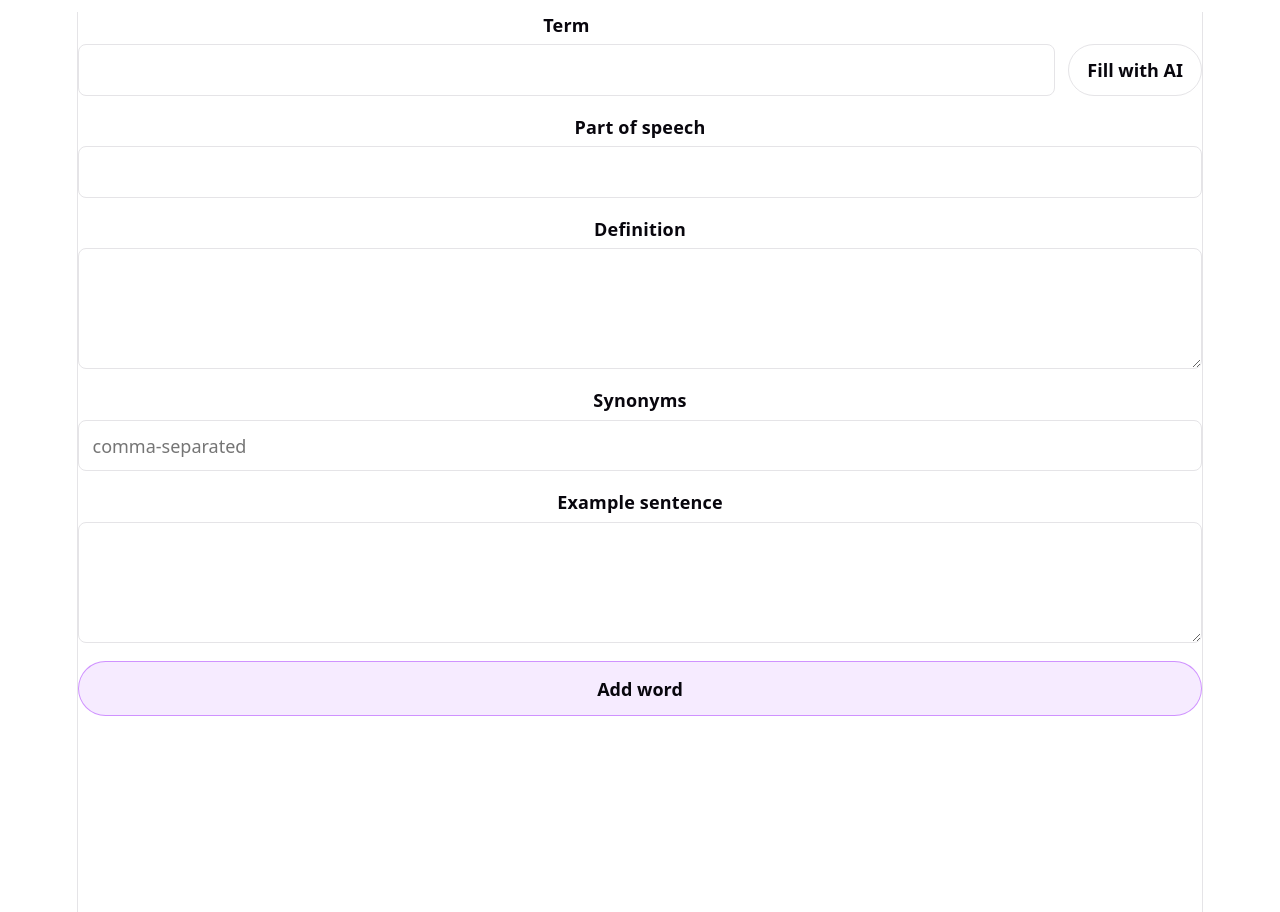
Scenario: WordForm › shows enrich error when Fill with AI fails
The image size is (1280, 912).
Type "ephemeral" into the field labelled "Term" at (566, 70), box top-left (78, 44), bottom-right (1055, 96)
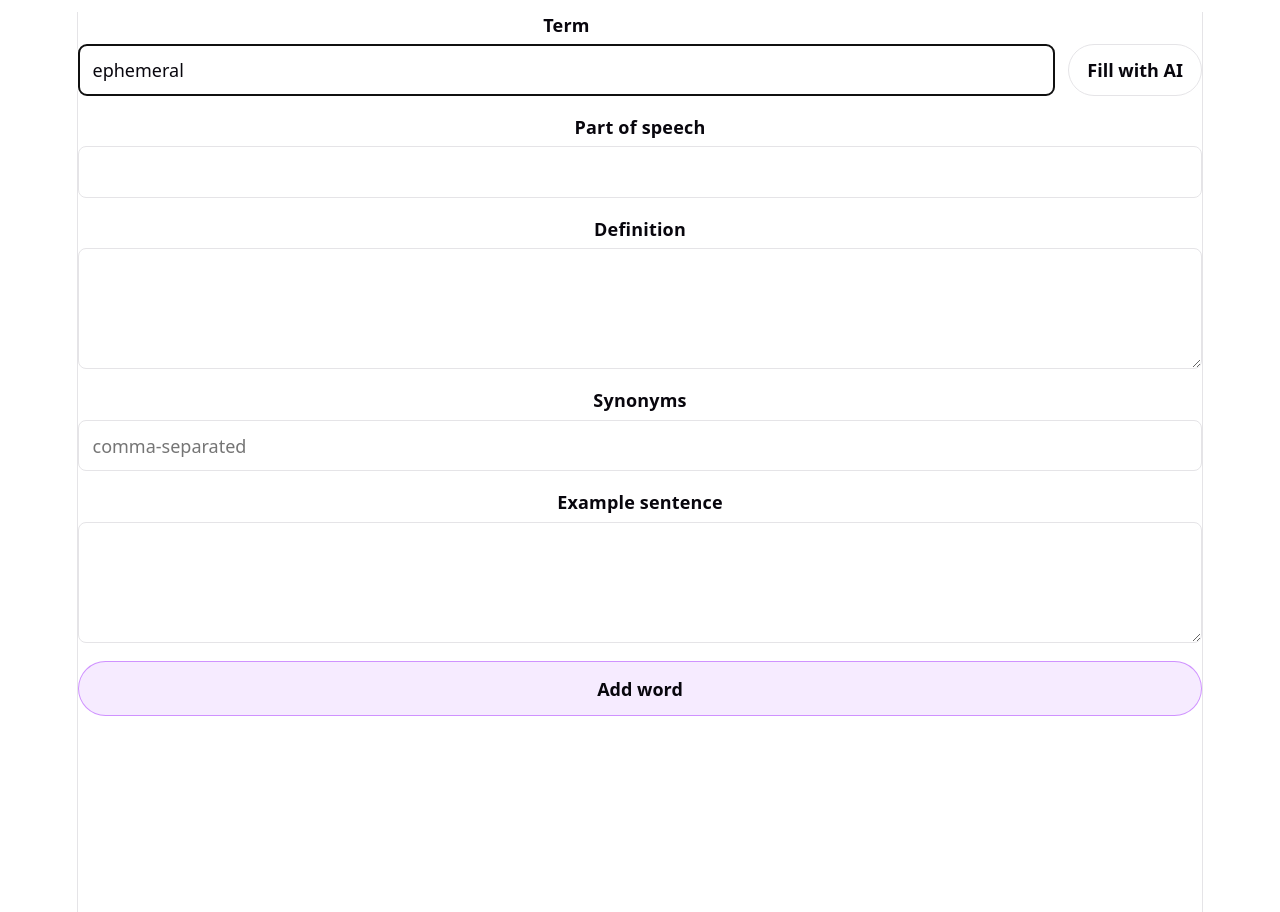
Click the button "Fill with AI" at (1135, 70), box top-left (1068, 44), bottom-right (1202, 96)
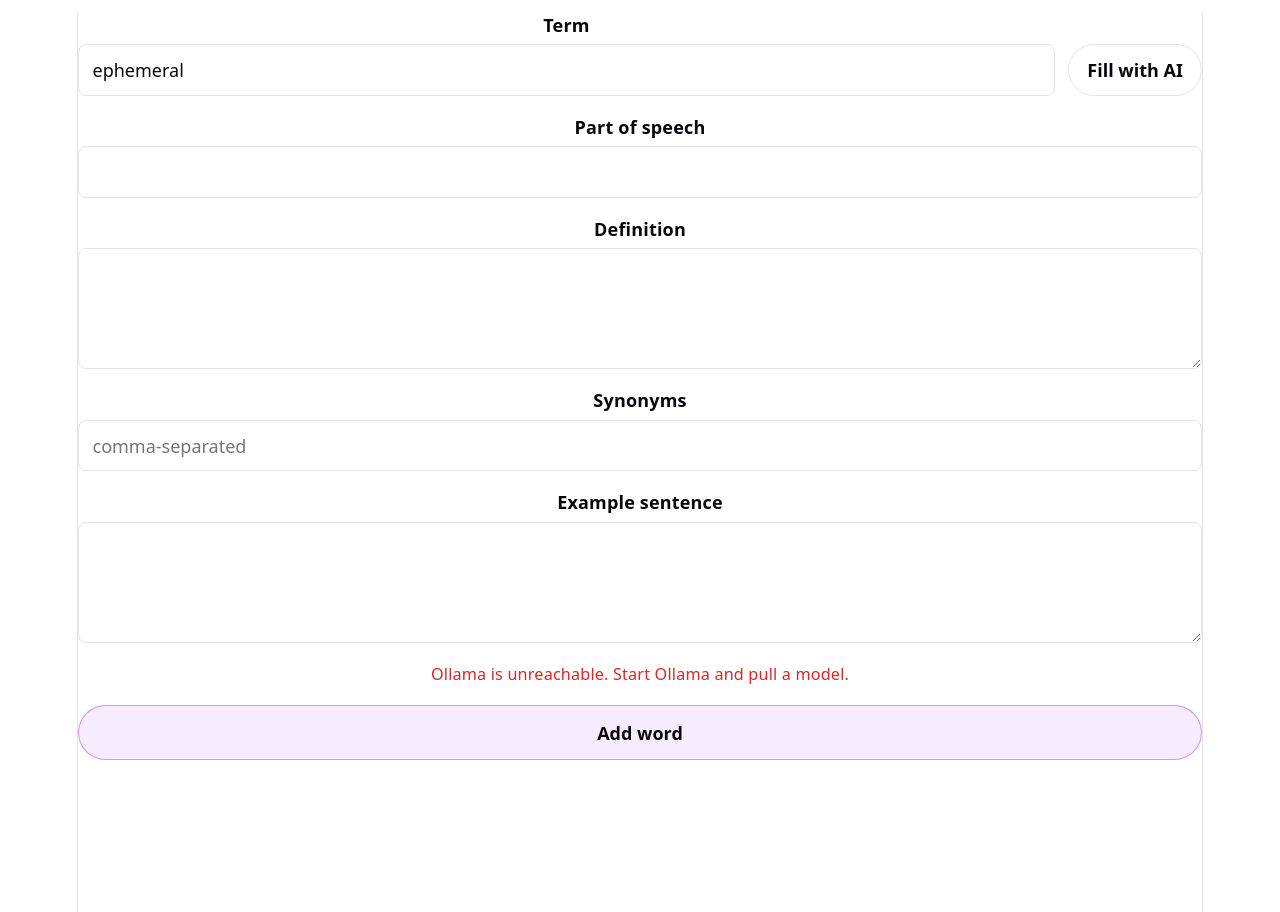
Check: the text "Ollama is unreachable. Start Ollama and pull a model." is shown, box top-left (431, 663), bottom-right (849, 685)
